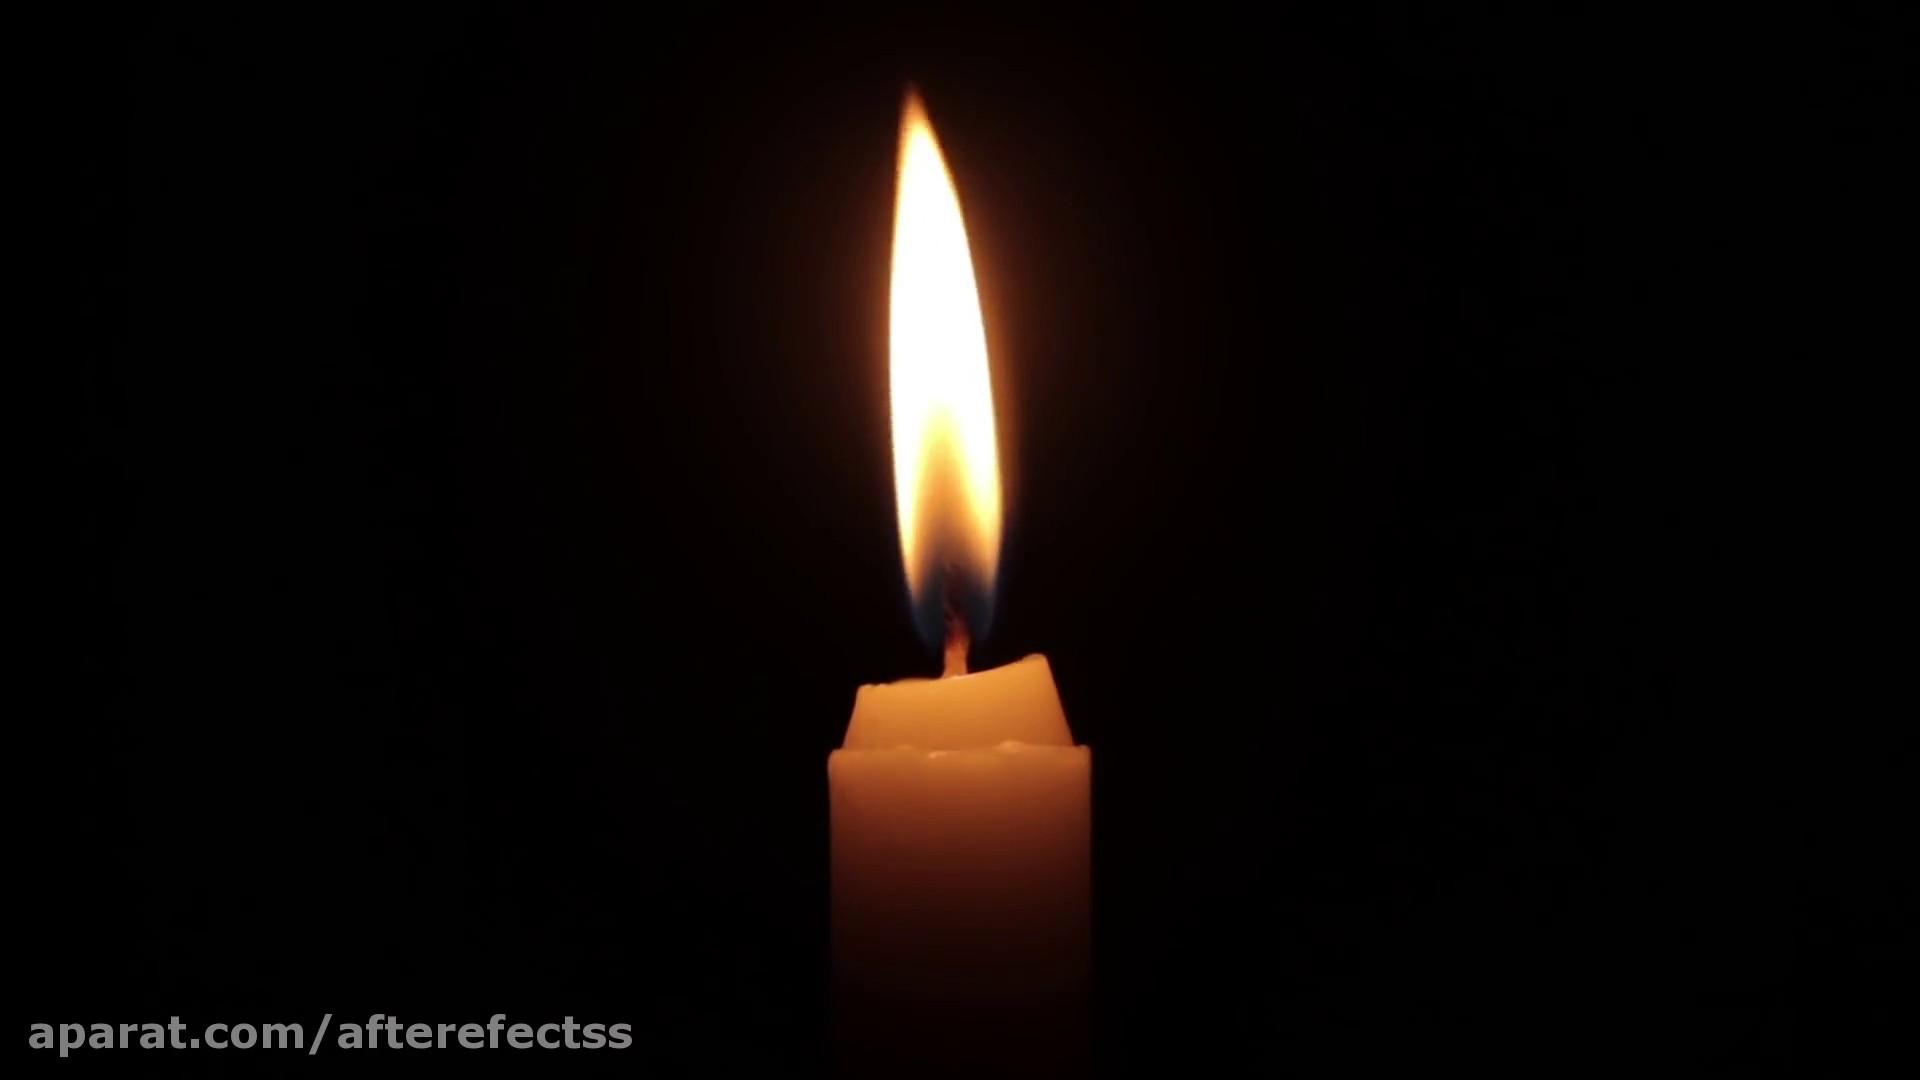fire: (864, 84, 1015, 611)
